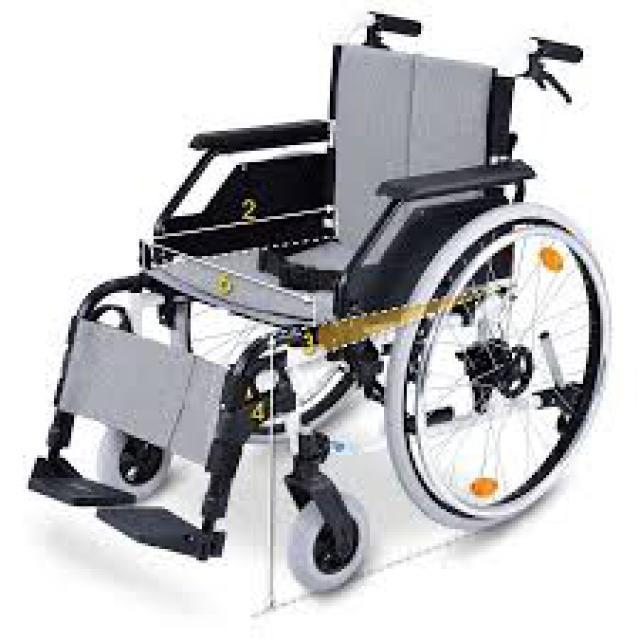wheelchairs: (34, 13, 608, 591)
